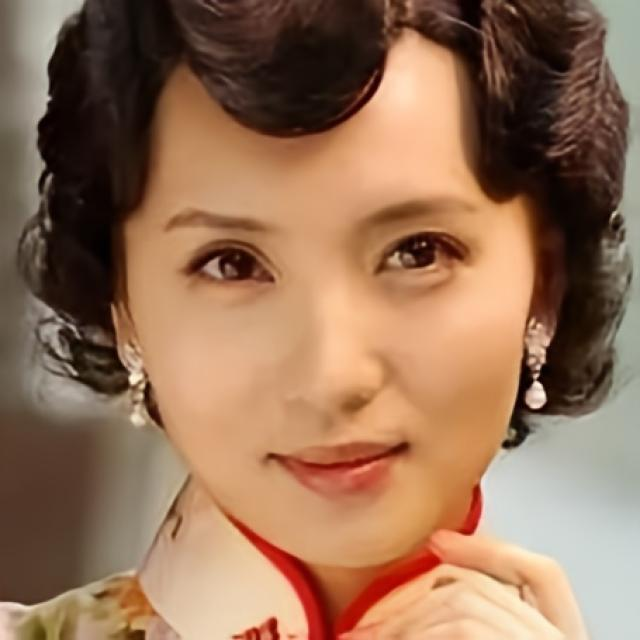happy: (122, 23, 534, 572)
